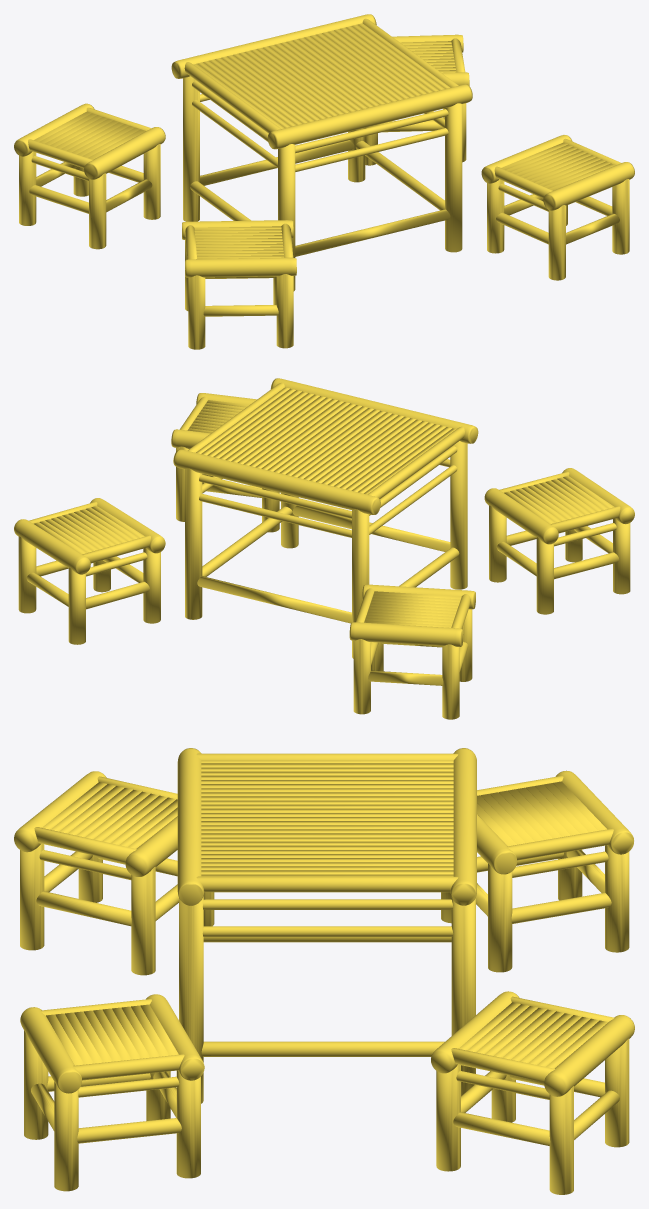
File: BAN GHE TRE.glb
The picture shows the model from 3 angles, top to bottom: view 1: azimuth 30°, elevation 25°; view 2: azimuth 150°, elevation 25°; view 3: azimuth 270°, elevation 25°; orthographic projection. The views are drawn at different scales.
Parts seen in each view (by area): view 1: BAN, GHE; view 2: GHE, BAN; view 3: GHE, BAN.
Boxes of the visible parts, x1,y1,x2,y2 form: BAN: (171, 14, 472, 291); GHE: (14, 34, 634, 349); GHE: (14, 393, 634, 719); BAN: (173, 378, 478, 658); GHE: (14, 770, 634, 1194); BAN: (177, 748, 476, 1103).
Bounding box in the file's own units: 36.24 × 12.52 × 30.86.
